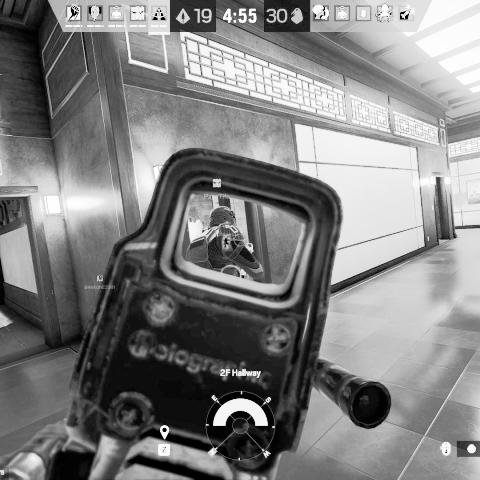Character: (184, 204, 266, 284)
Friend_label: (203, 177, 232, 200), (83, 274, 117, 290)
Head: (208, 206, 236, 230)
